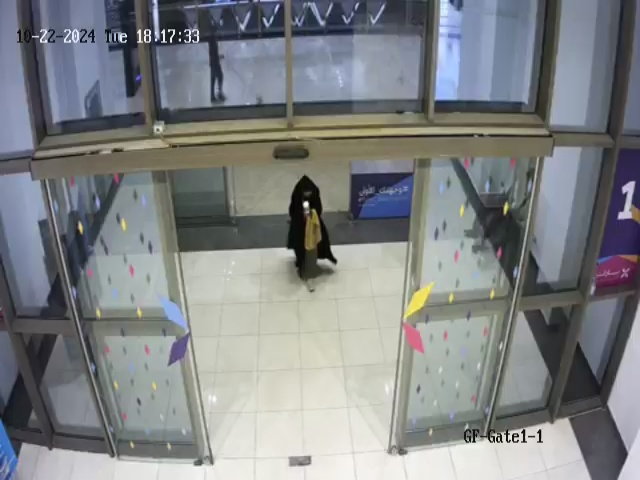female: (275, 160, 347, 288)
male: (199, 21, 237, 111)
